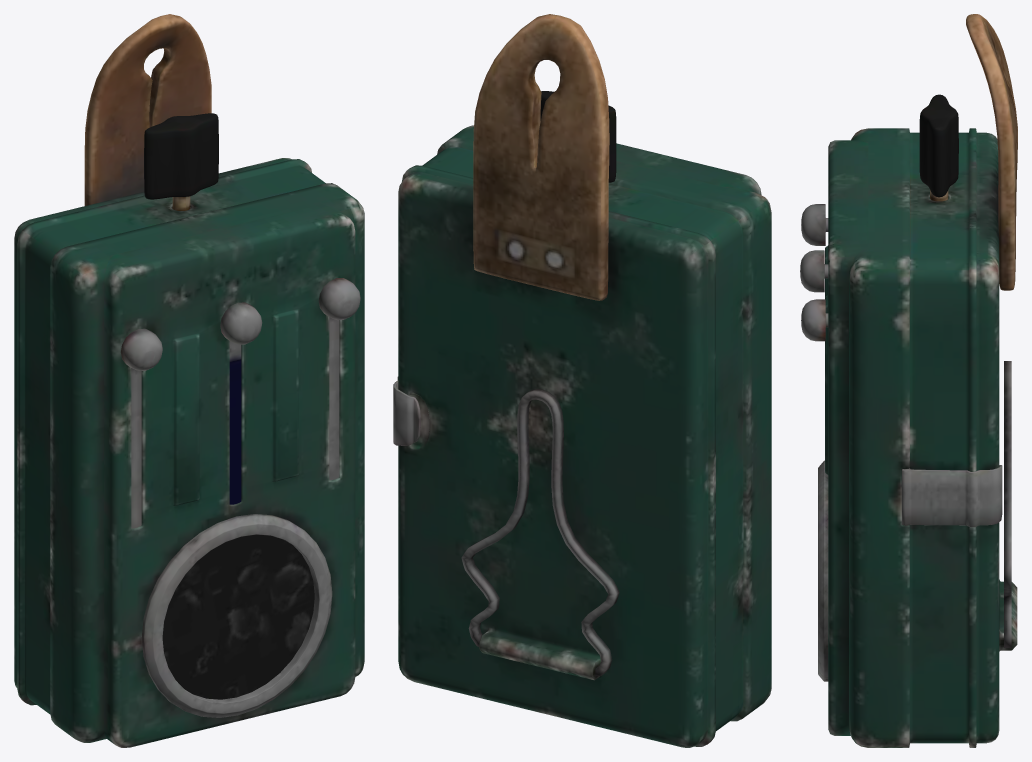
The model's file is signal_flashlight.glb.
3 renders of one model, left to right at view 1: azimuth 30°, elevation 25°; view 2: azimuth 150°, elevation 25°; view 3: azimuth 270°, elevation 25°, orthographic. The views are drawn at different scales.
Visible parts, largest first — view 1: signal_flashlight_clip, signal_flashlight; view 2: signal_flashlight_clip; view 3: signal_flashlight_clip.
Part boxes in pixels (left/top/right/bottom): signal_flashlight_clip: left=14, top=14, right=364, bottom=747; signal_flashlight: left=162, top=358, right=314, bottom=699; signal_flashlight_clip: left=393, top=14, right=771, bottom=747; signal_flashlight_clip: left=800, top=14, right=1017, bottom=747.
Size of the model in its own units: 0.071 by 0.1499 by 0.0445.
2 materials, 2 textured.
